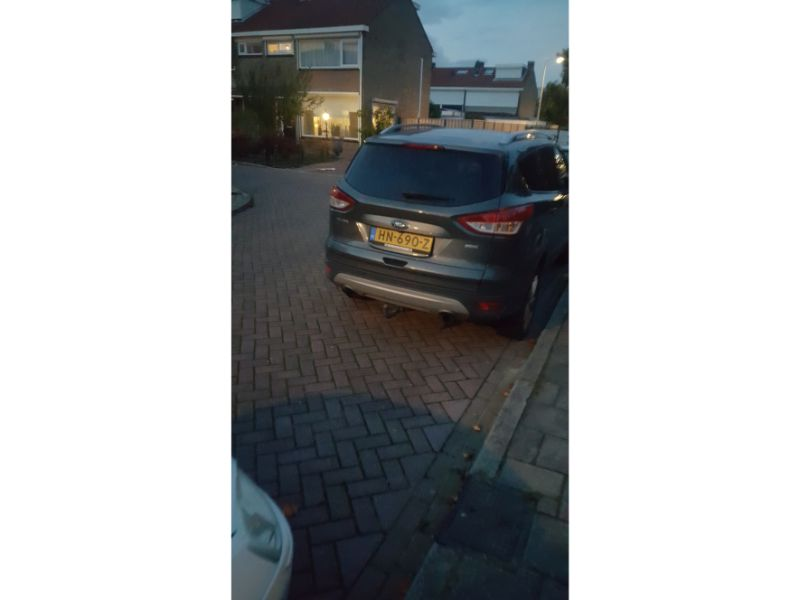kenteken: (366, 223, 435, 257)
